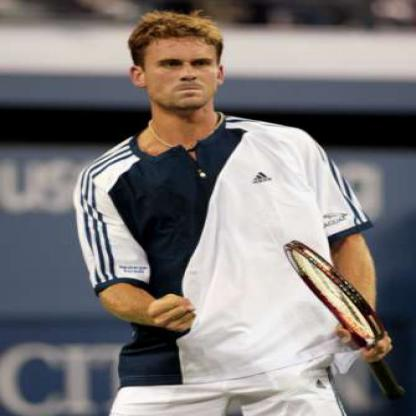face: (139, 19, 224, 111)
